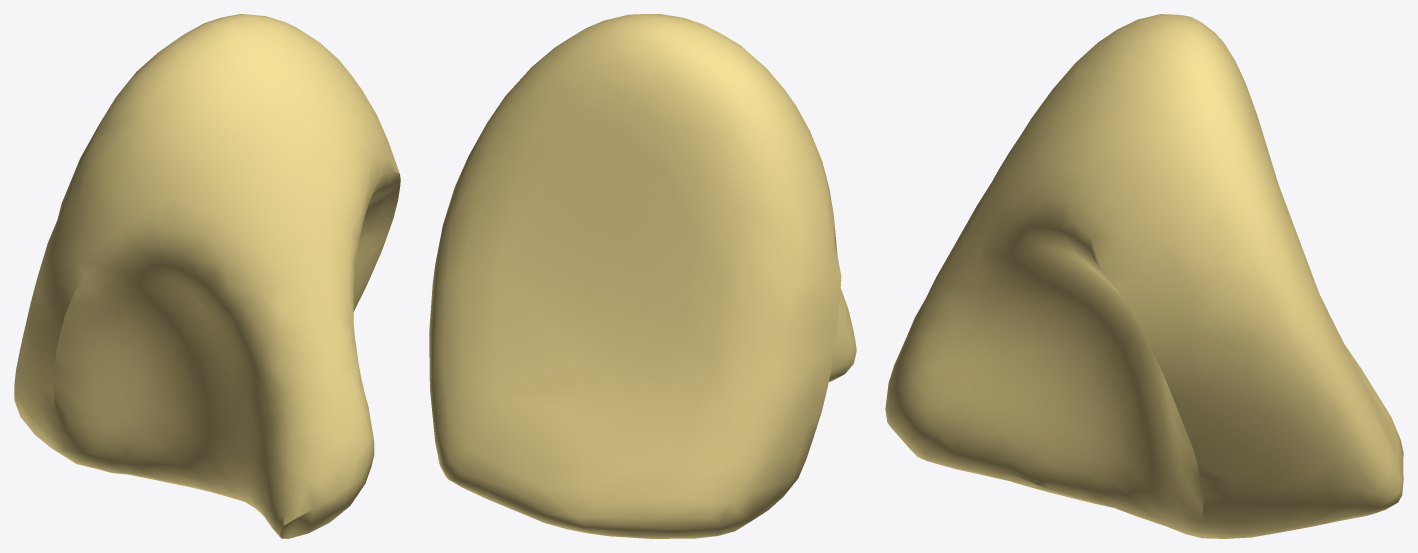
3 views of the same model, side by side, from view 1: azimuth 30°, elevation 25°; view 2: azimuth 150°, elevation 25°; view 3: azimuth 270°, elevation 25° (orthographic). The views are drawn at different scales.
Visible parts, largest first — view 1: ZA_6806ff7364b35da9; view 2: ZA_6806ff7364b35da9; view 3: ZA_6806ff7364b35da9.
Part boxes in pixels (x1,y1,x2,y2): ZA_6806ff7364b35da9: (14,14,400,538); ZA_6806ff7364b35da9: (429,14,856,538); ZA_6806ff7364b35da9: (885,14,1403,538).
Size of the model in its own units: 0.0128 by 0.0163 by 0.0158.
